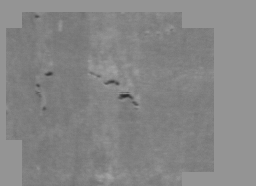oxl: (35, 10, 221, 176)
